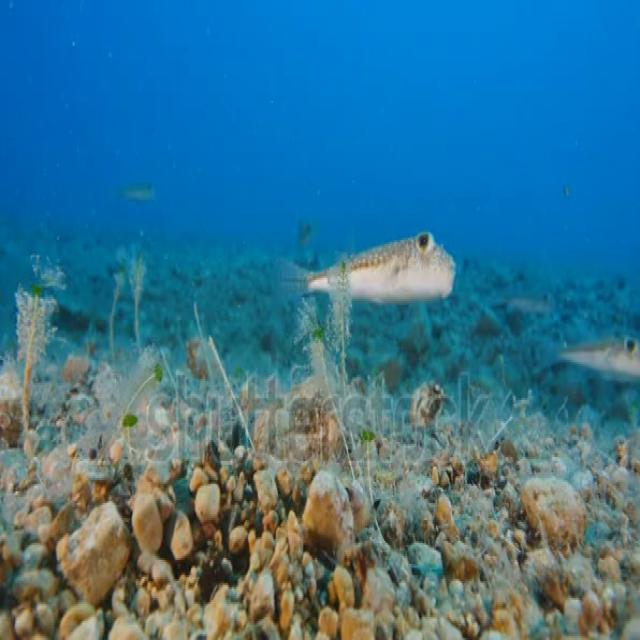Balon Baligi: (279, 227, 458, 310), (552, 306, 640, 386)
